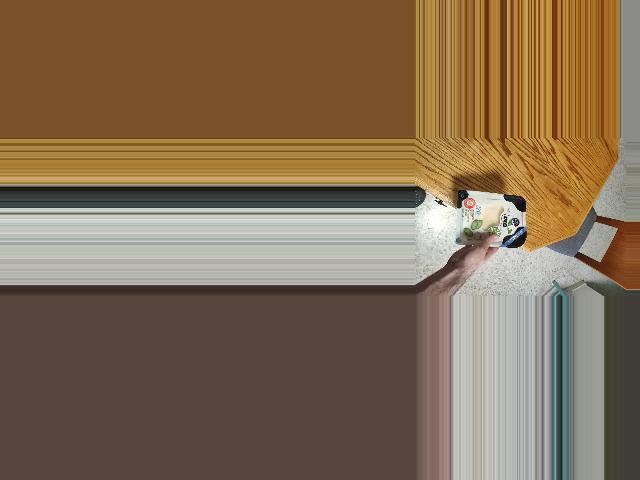cheese: (443, 190, 538, 245)
